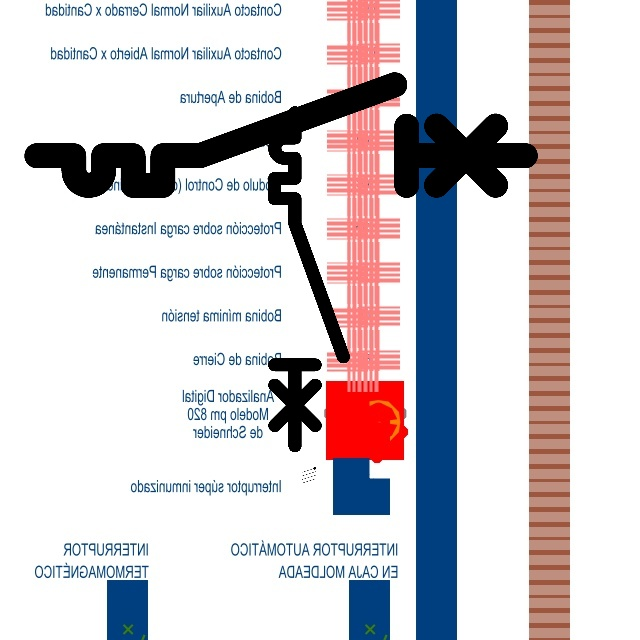interruptor_termomagnetico: (24, 72, 537, 198), (266, 104, 352, 454)
